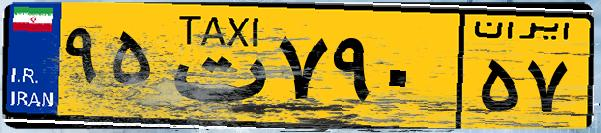0: (385, 28, 445, 110)
5: (475, 38, 525, 113), (110, 28, 158, 98)
7: (270, 28, 330, 110), (525, 38, 570, 115)
9: (330, 28, 385, 110), (57, 26, 110, 100)
ت: (158, 12, 270, 120)
